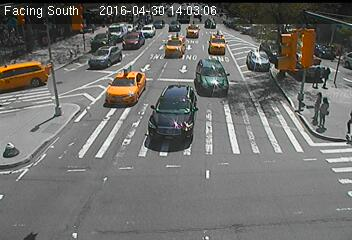neg: (233, 14, 268, 61), (57, 149, 92, 195), (243, 171, 273, 210), (205, 117, 230, 151), (11, 111, 36, 144), (69, 73, 87, 98), (208, 56, 225, 78), (166, 17, 180, 35)
pos: (306, 88, 336, 127), (312, 100, 336, 132)
